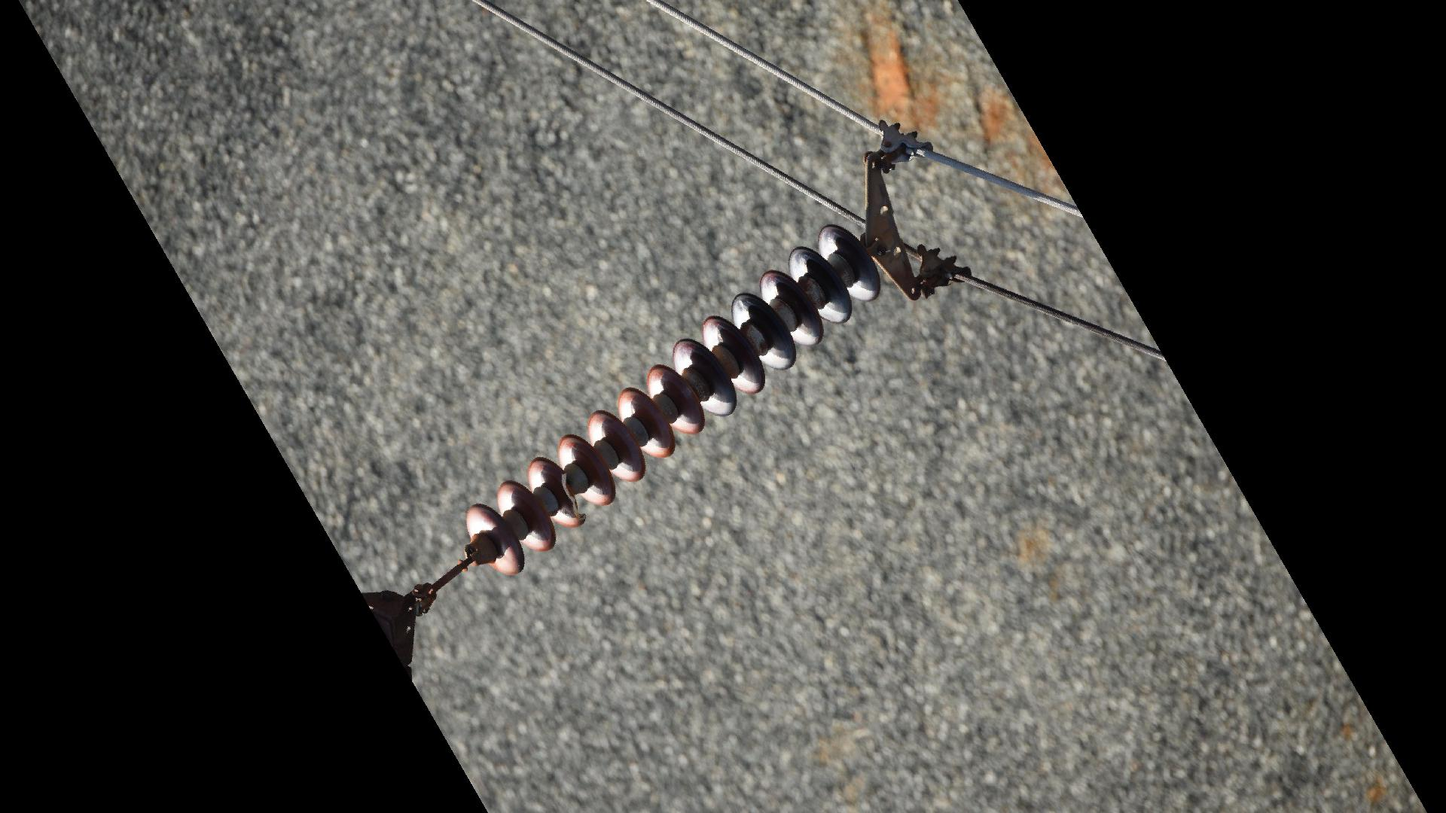insulator: (460, 219, 889, 582)
insulator_breakage: (552, 468, 590, 527)
